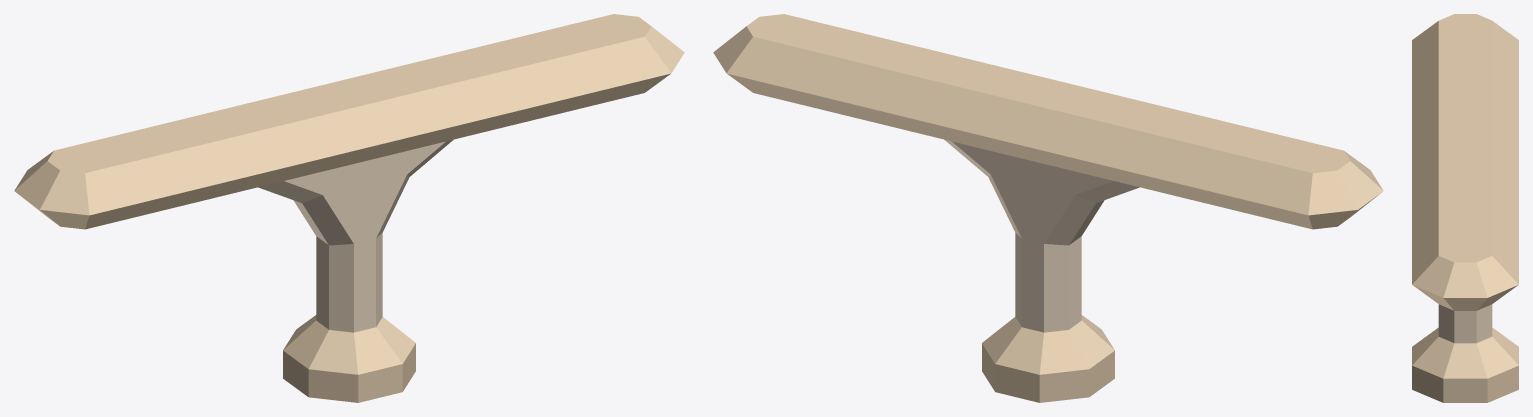
File: Balcony_Railing_Straight.glb
3 views of the same model, side by side, from view 1: azimuth 30°, elevation 25°; view 2: azimuth 150°, elevation 25°; view 3: azimuth 270°, elevation 25° (orthographic). The views are drawn at different scales.
Visible parts, largest first — view 1: Balcony_Railing_Straight; view 2: Balcony_Railing_Straight; view 3: Balcony_Railing_Straight.
Boxes of the visible parts, <box> form: Balcony_Railing_Straight: <box>14,14,684,402</box>; Balcony_Railing_Straight: <box>713,14,1383,402</box>; Balcony_Railing_Straight: <box>1412,14,1518,402</box>.
Bounding box in the file's own units: 0.54 × 0.225 × 0.09.
